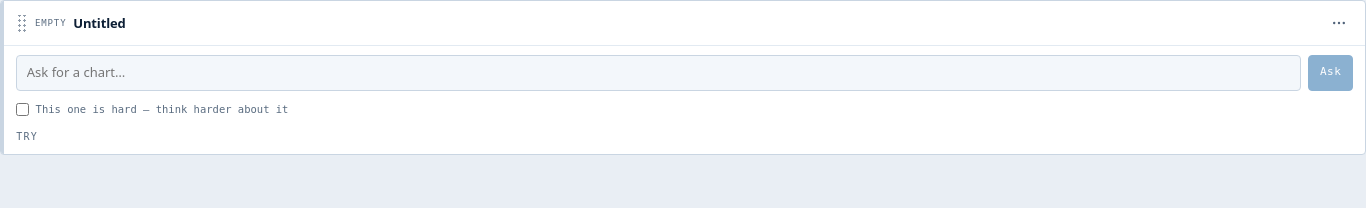
Test case: Card exchanges › shows an operational refusal as an error, not a replyable exchange
Type "oil by month" into the field labelled "Ask for a chart…" at [659, 73], box [16,55,1301,91]
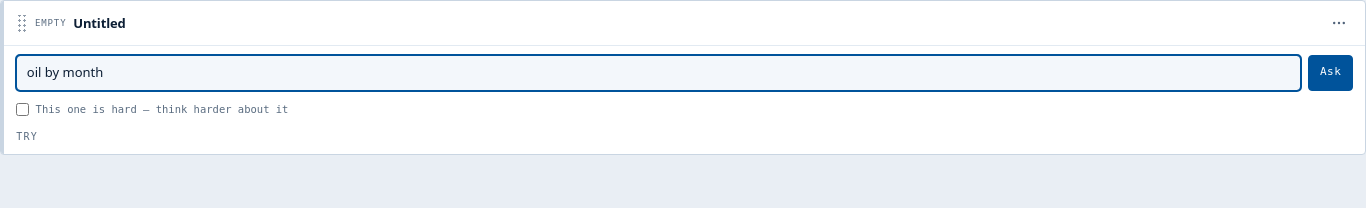
Click the button "Ask" at [1331, 73], box [1308,55,1354,91]
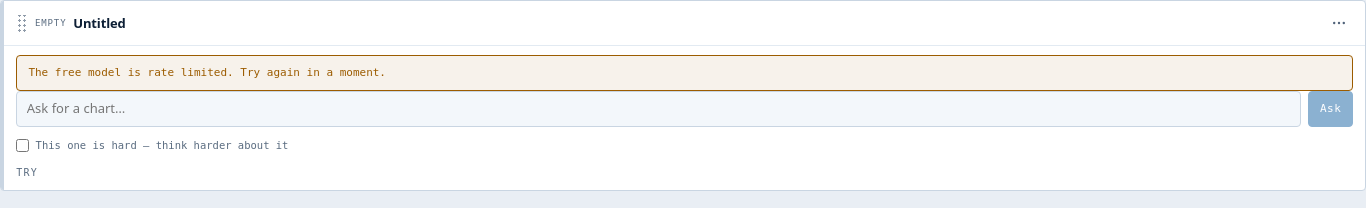
Check: the field labelled "Ask for a chart…" is shown, box [16,91,1301,127]
Check: the text "The free model is rate limited. Try again in a moment." is shown, box [16,55,1354,91]
